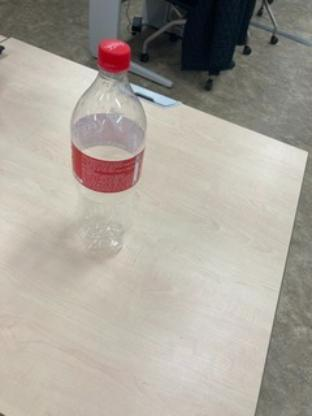Plastic Bottle: (68, 35, 150, 267)
